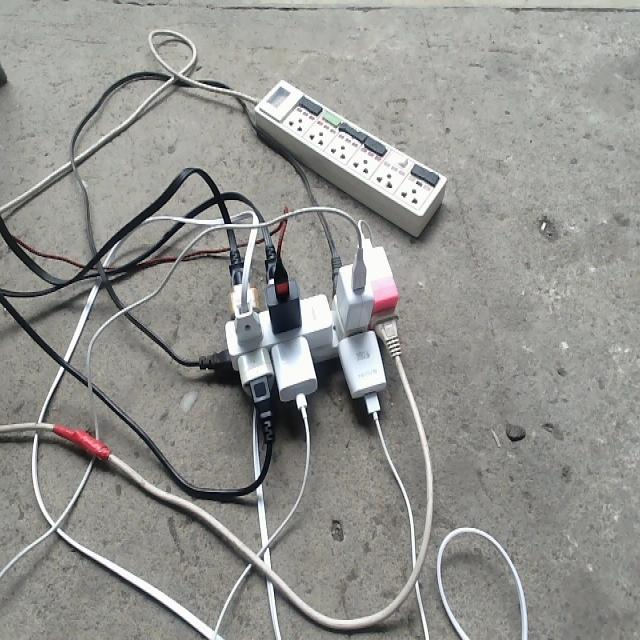-: (209, 236, 401, 421)
